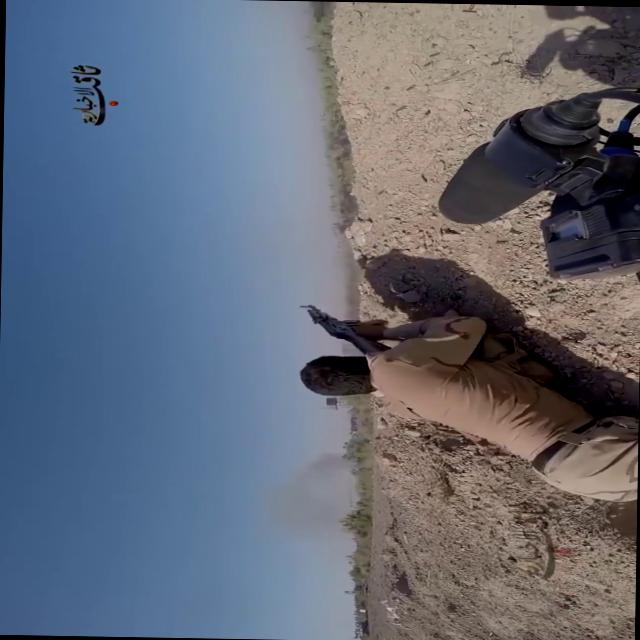long weapon: (293, 301, 412, 359)
